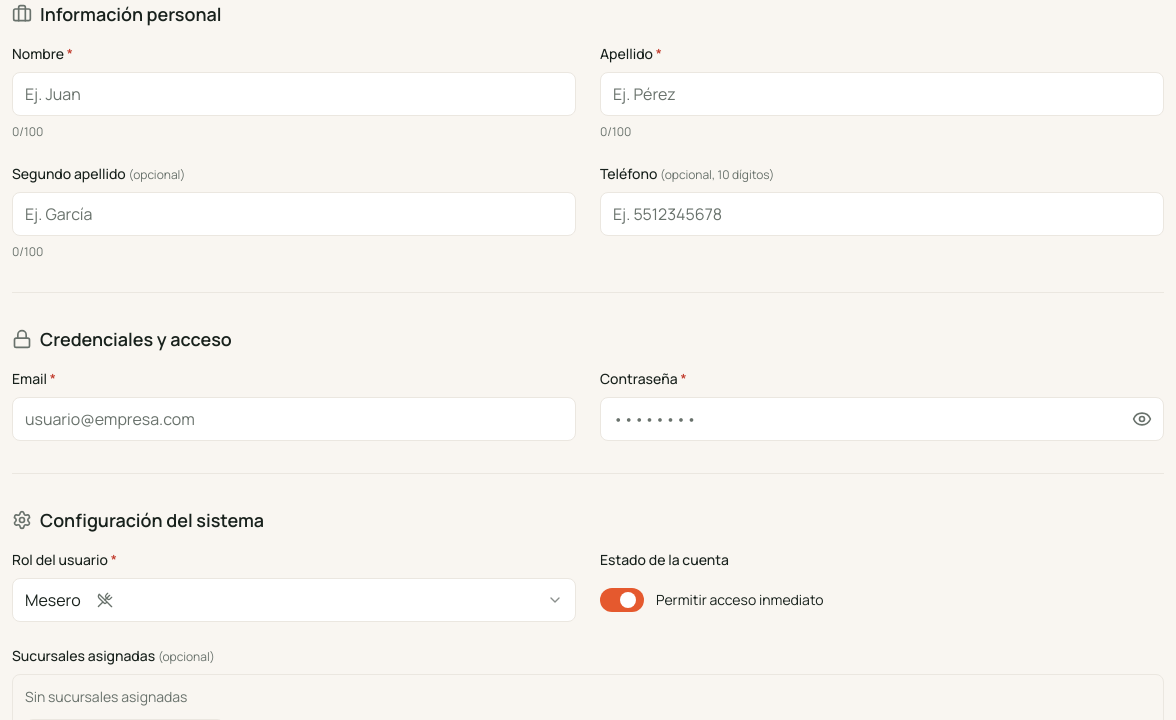
UserForm › validación: creación › muestra error cuando apellido está vacío
Type "Juan" into the field labelled "Nombre *". click: (294, 94)
box: x1=12 y1=72 x2=576 y2=116
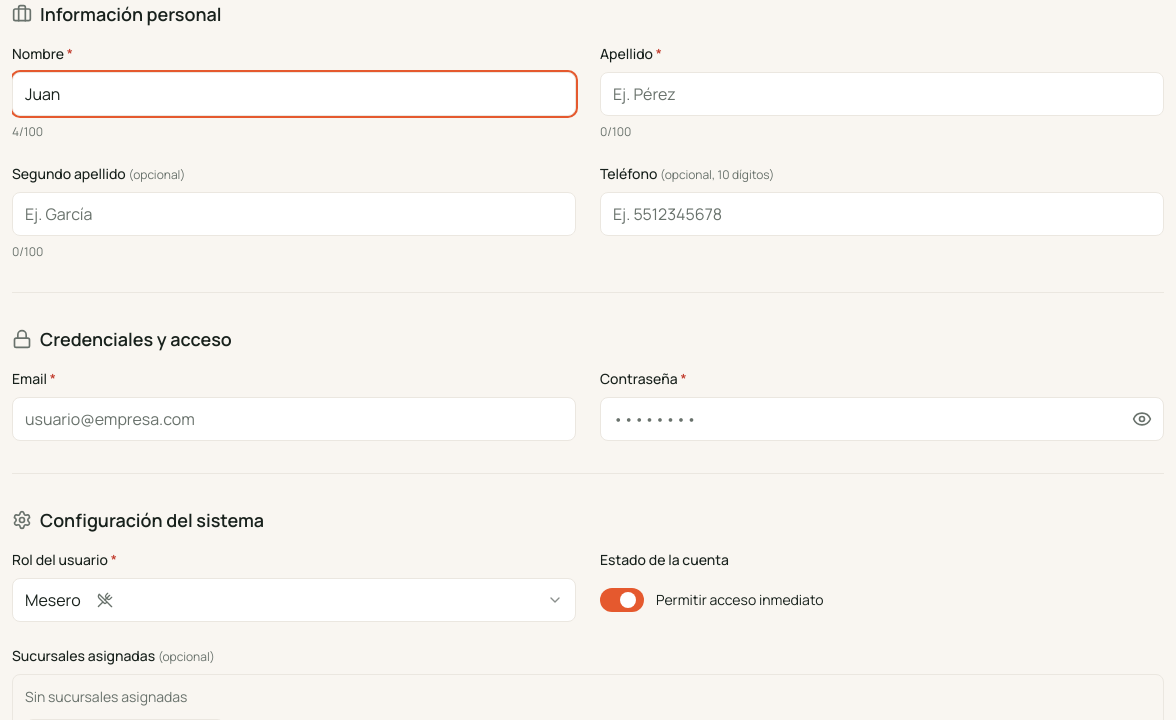
Clear the field labelled "Apellido *". click: (882, 94)
box: x1=600 y1=72 x2=1164 y2=116
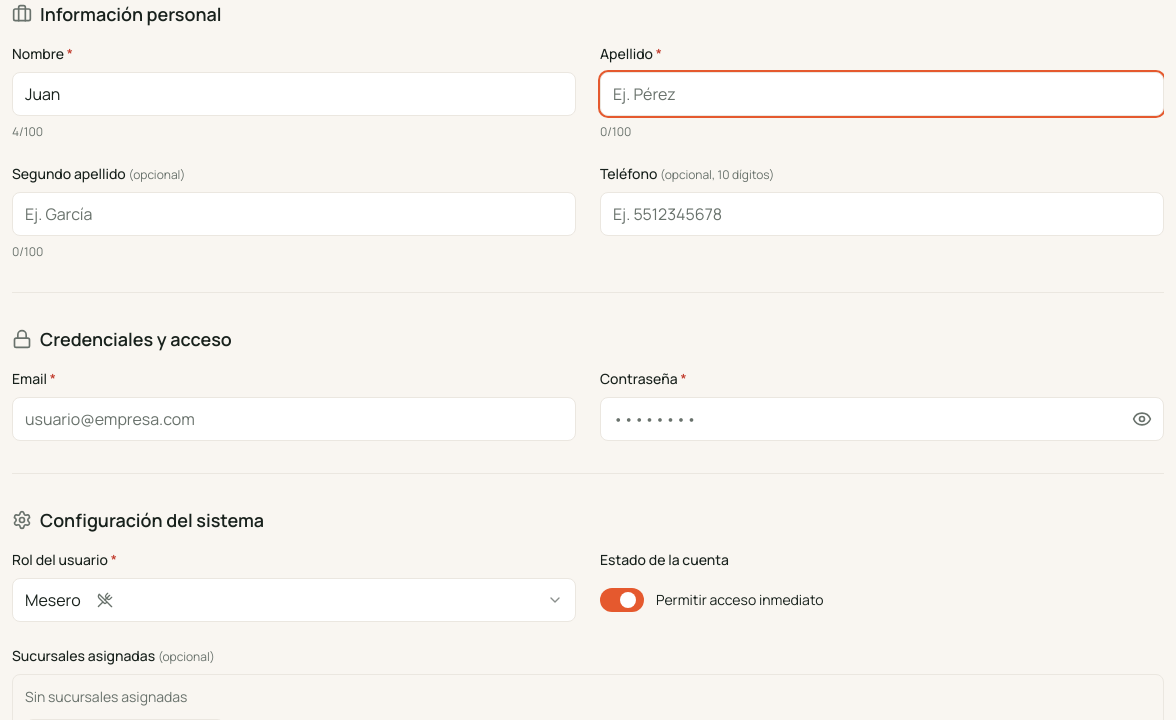
Type "juan@test.com" into the field labelled "Email *". click: (294, 419)
box: x1=12 y1=397 x2=576 y2=441
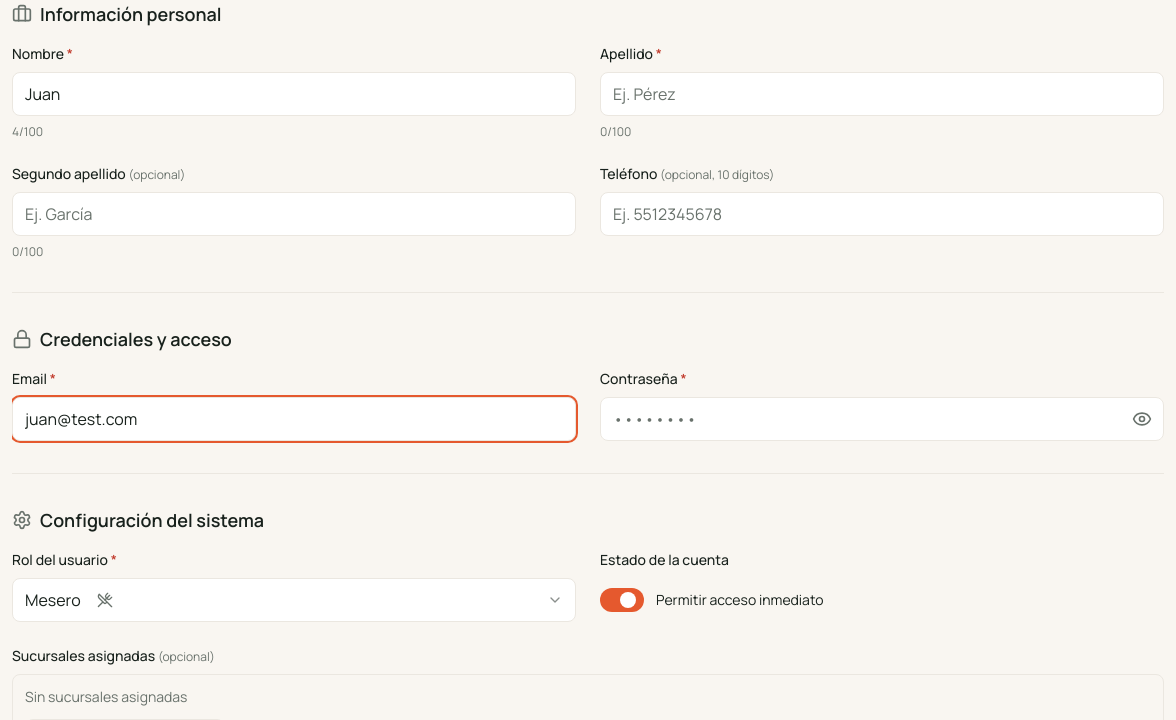
Type "Password123!" into the password field labelled "Contraseña *". click: (882, 419)
box: x1=600 y1=397 x2=1164 y2=441
(page scrolled)
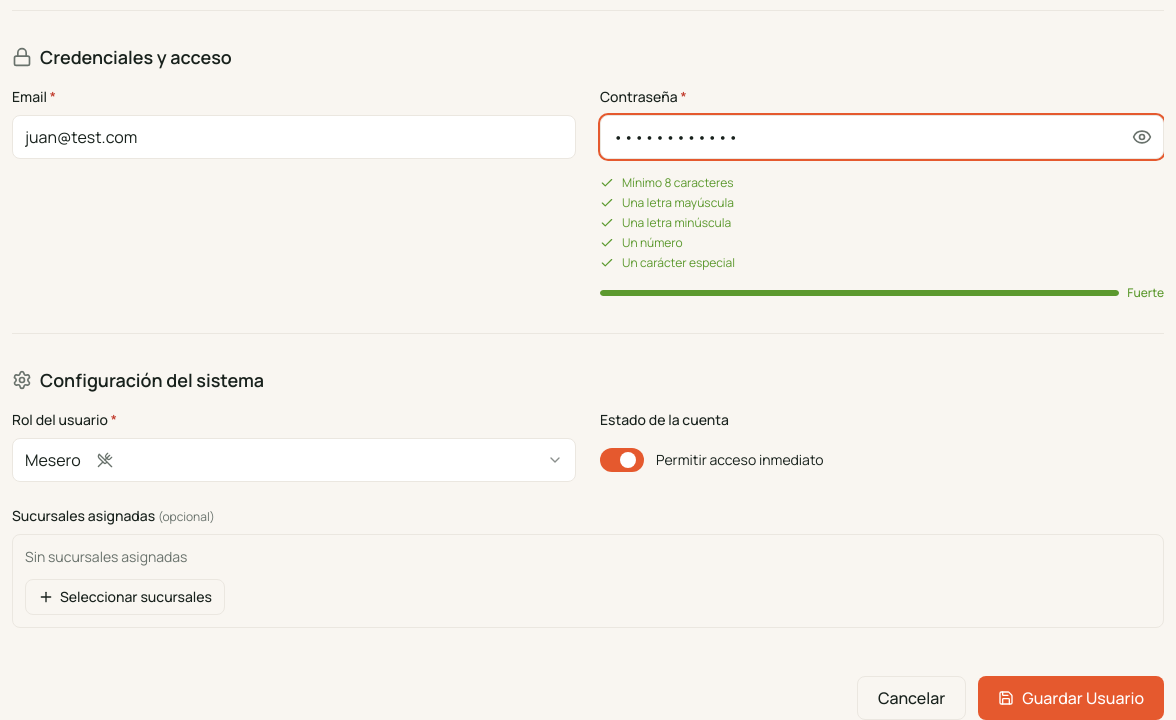
Click the button "Guardar Usuario". click: (1071, 698)
box: x1=978 y1=676 x2=1164 y2=719
(page scrolled)
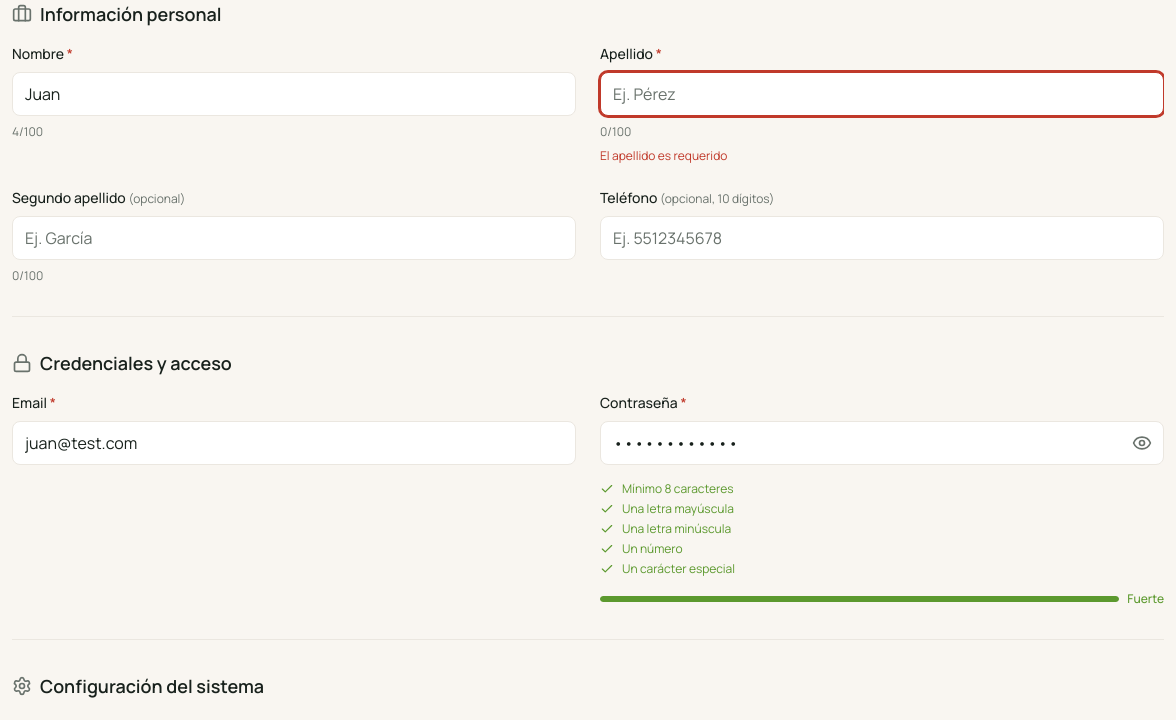
Result: the text "El apellido es requerido" is shown at x1=600 y1=147 x2=727 y2=164
